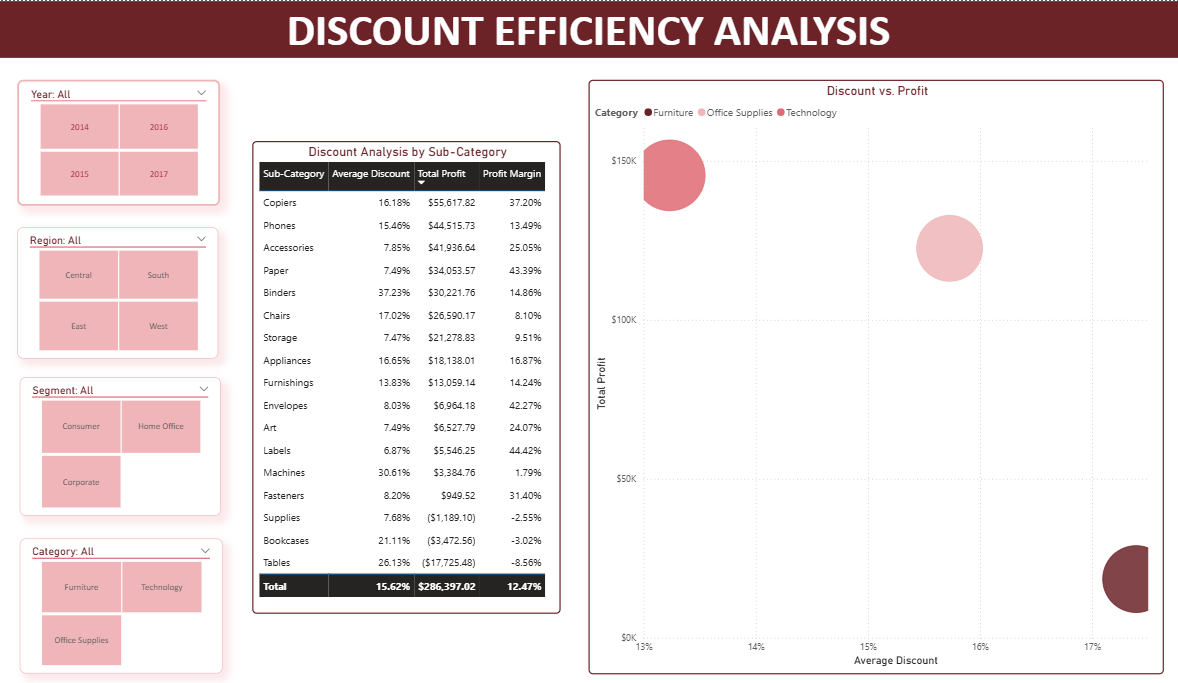

The dashboard page shown, as its layout file describes it:
{"tool":"powerbi","page":{"name":"Discount Efficiency Analysis","canvas":[1580,920],"ordinal":3},"visuals":[{"type":"actionButton","box":[0,0,100,40],"z":0},{"type":"scatterChart","title":"Discount vs. Profit","fields":{"X":["Fact_Sales.Average Discount"],"Y":["Fact_Sales.Total Profit"],"Size":["Fact_Sales.Total Sales"],"Series":["Dim_Product.Category"]},"box":[790,105,767.5,792.5],"z":1000},{"type":"shape","box":[0,0,1580,76],"z":2000},{"type":"tableEx","title":"Discount Analysis by Sub-Category","fields":{"Values":["Dim_Product.Sub-Category","Fact_Sales.Average Discount","Fact_Sales.Total Profit","Fact_Sales.Profit Margin"]},"box":[341.4,187.1,411.4,630],"z":3000},{"type":"slicer","fields":{"Values":["Dim_Date.OrderYear"]},"box":[28,105.7,270,168.3],"z":4000},{"type":"slicer","fields":{"Values":["Dim_Geography.Region"]},"box":[28,302.3,268.3,175],"z":5000},{"type":"slicer","fields":{"Values":["Dim_Customer.Segment"]},"box":[31.3,502.3,268.3,185],"z":6000},{"type":"slicer","fields":{"Values":["Dim_Product.Category"]},"box":[31.3,717.3,270,180],"z":7000}]}

Visuals, with their boxes in screenshot pixels (x1, y1, x2, y2), scaled from the page's 1580x920 canvas onto the 1178x683 screenshot:
actionButton: (x1=0, y1=0, x2=75, y2=30)
"Discount vs. Profit" scatterChart: (x1=589, y1=78, x2=1161, y2=666)
shape: (x1=0, y1=0, x2=1177, y2=56)
"Discount Analysis by Sub-Category" tableEx: (x1=255, y1=139, x2=561, y2=607)
slicer - Dim_Date.OrderYear: (x1=21, y1=78, x2=222, y2=203)
slicer - Dim_Geography.Region: (x1=21, y1=224, x2=221, y2=354)
slicer - Dim_Customer.Segment: (x1=23, y1=373, x2=223, y2=510)
slicer - Dim_Product.Category: (x1=23, y1=533, x2=225, y2=666)
